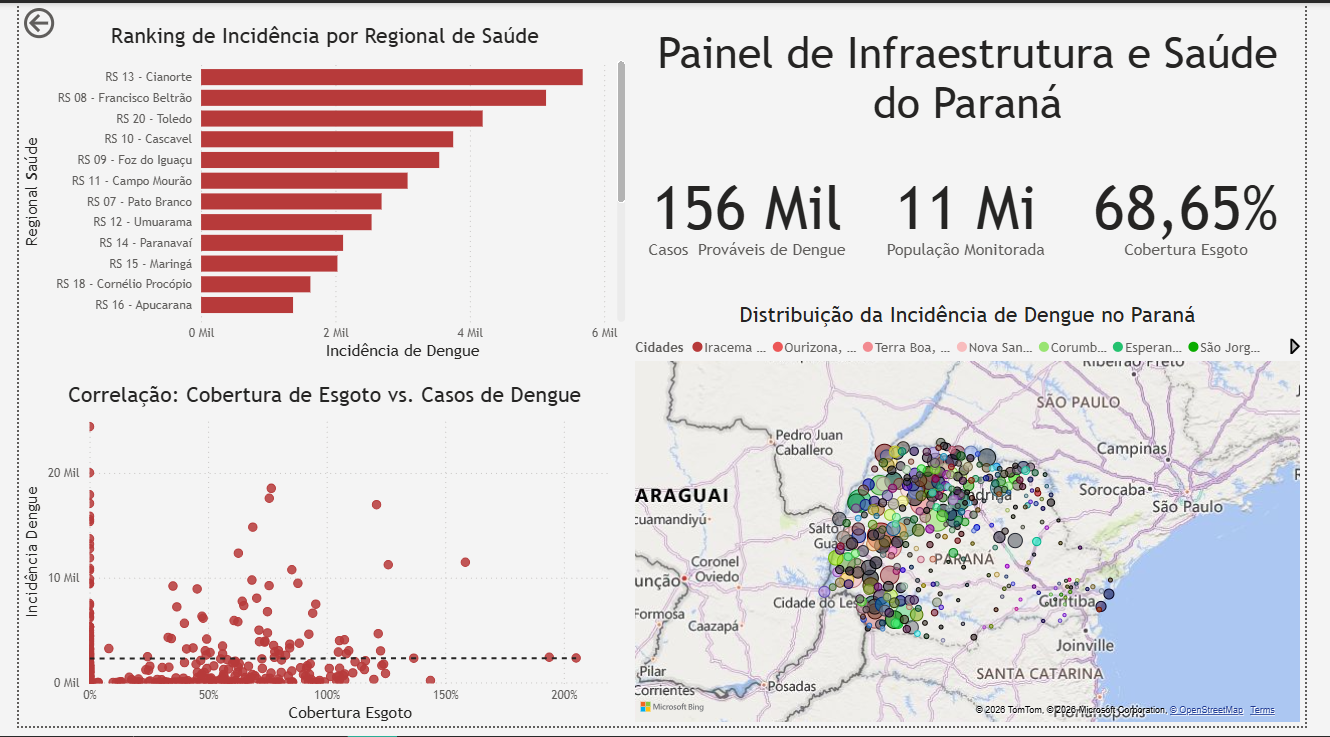

This screenshot's page, from the dashboard's own definition file:
{"tool":"powerbi","page":{"name":"Página 1","canvas":[1280,720],"ordinal":0},"visuals":[{"type":"card","fields":{"Values":["Sum(public fato_populacao.populacao_total)"]},"box":[841.1,132.6,202.9,150],"z":0},{"type":"map","title":"Distribuição da Incidência de Dengue no Paraná","fields":{"Series":["public dim_municipio.Nome Completo"],"Size":["public fato_dengue.Incidência Dengue (por 100k)"],"Category":["public dim_municipio.Nome Completo"]},"box":[608.6,297.1,671.4,422.9],"z":1000},{"type":"scatterChart","title":"Correlação: Cobertura de Esgoto vs. Casos de Dengue","fields":{"Y":["public fato_dengue.Incidência Dengue (por 100k)"],"Category":["public dim_municipio.nome_municipio"],"X":["public fato_saneamento.% Cobertura Real (População)"]},"box":[0,377.1,608.6,342.9],"z":2000},{"type":"clusteredBarChart","title":"Ranking de Incidência por Regional de Saúde","fields":{"Category":["public dim_municipio.regional_saude"],"Y":["public fato_dengue.Incidência Dengue (por 100k)"]},"box":[0,20,608.6,340],"z":3000},{"type":"card","fields":{"Values":["Sum(public fato_dengue.casos_provaveis)"]},"box":[608.3,132.6,232.9,150],"z":4000},{"type":"card","fields":{"Values":["public fato_saneamento.% Cobertura Real (População)"]},"box":[1044,132.6,235.7,150],"z":5000},{"type":"actionButton","box":[0,0,100,40],"z":6000},{"type":"textbox","box":[608.6,20,671.4,112.9],"z":7000}]}

Visuals, with their boxes in screenshot pixels (x1, y1, x2, y2), scaled from the page's 1280x720 canvas onto the 1330x737 screenshot:
card - Sum(public fato_populacao.populacao_total): [x1=874, y1=136, x2=1085, y2=289]
"Distribuição da Incidência de Dengue no Paraná" map: [x1=632, y1=304, x2=1329, y2=736]
"Correlação: Cobertura de Esgoto vs. Casos de Dengue" scatterChart: [x1=0, y1=386, x2=632, y2=736]
"Ranking de Incidência por Regional de Saúde" clusteredBarChart: [x1=0, y1=20, x2=632, y2=368]
card - Sum(public fato_dengue.casos_provaveis): [x1=632, y1=136, x2=874, y2=289]
card - public fato_saneamento.% Cobertura Real (População): [x1=1085, y1=136, x2=1329, y2=289]
actionButton: [x1=0, y1=0, x2=104, y2=41]
textbox: [x1=632, y1=20, x2=1329, y2=136]
